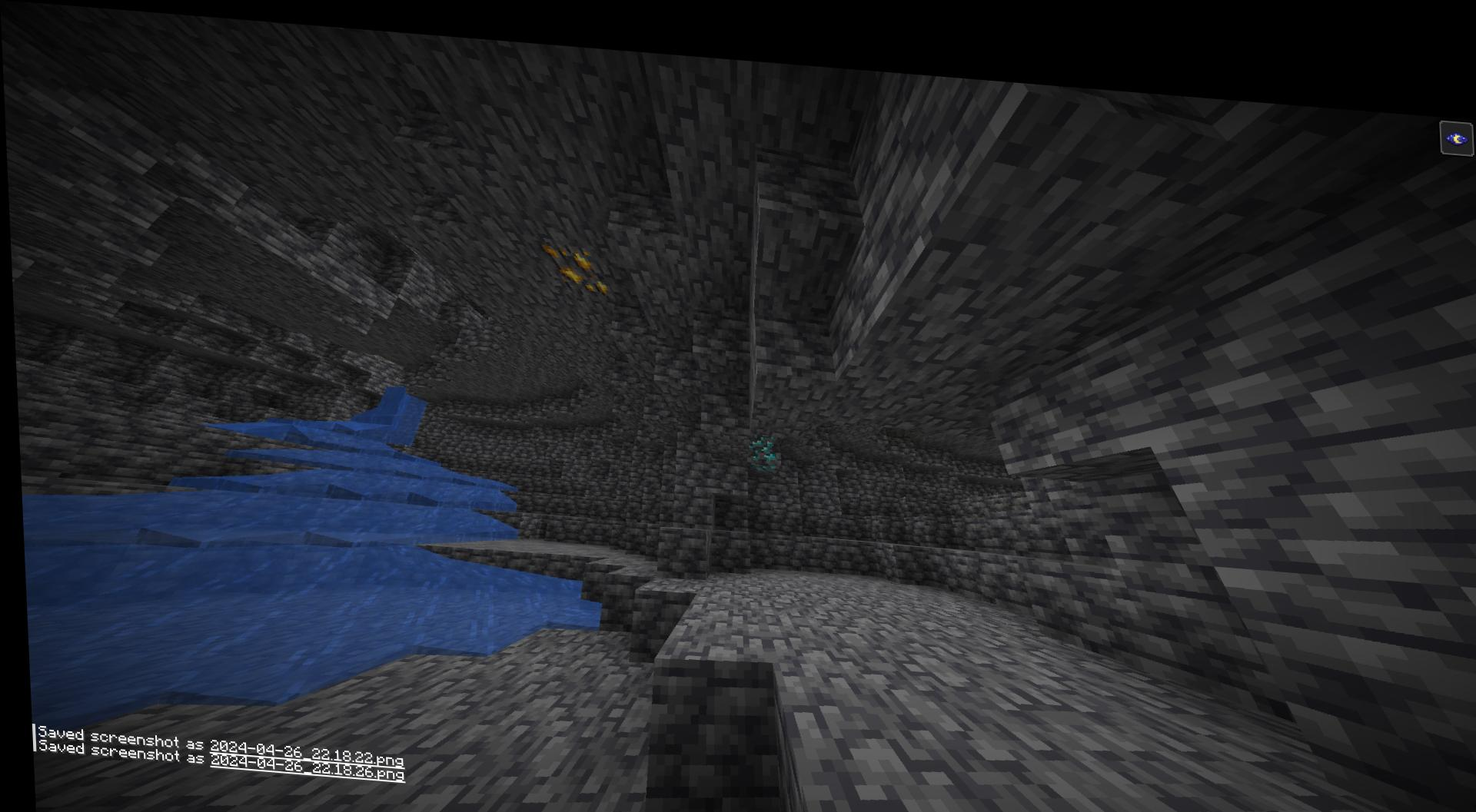diamond ore: (742, 419, 778, 460)
gold ore: (537, 232, 611, 289)
